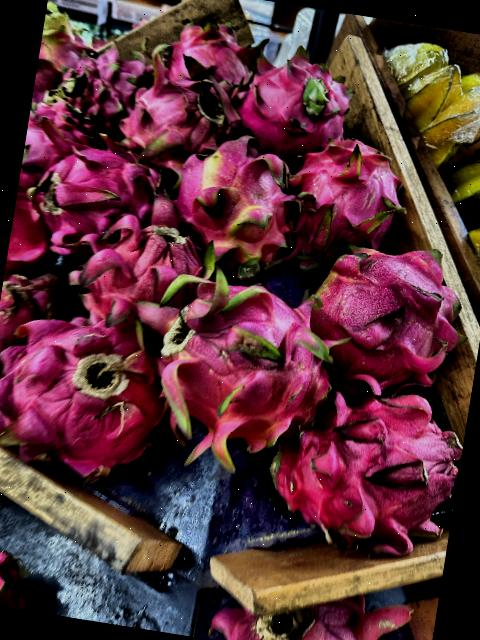buah-naga-belum-matang: (164, 126, 300, 277)
buah-naga-matang: (138, 264, 335, 448), (266, 378, 468, 546), (286, 226, 469, 402), (0, 302, 169, 476), (283, 132, 408, 262), (30, 122, 168, 238), (70, 212, 196, 332), (229, 49, 364, 147), (118, 51, 236, 158), (153, 12, 264, 84), (51, 52, 145, 132)
